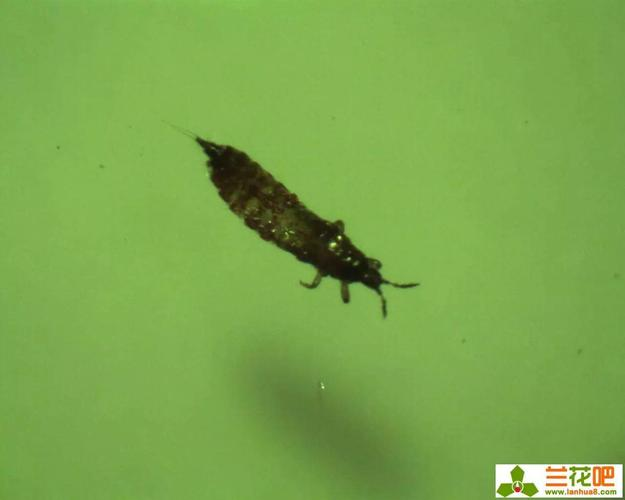Phlaeothripidae: (172, 120, 419, 319)
